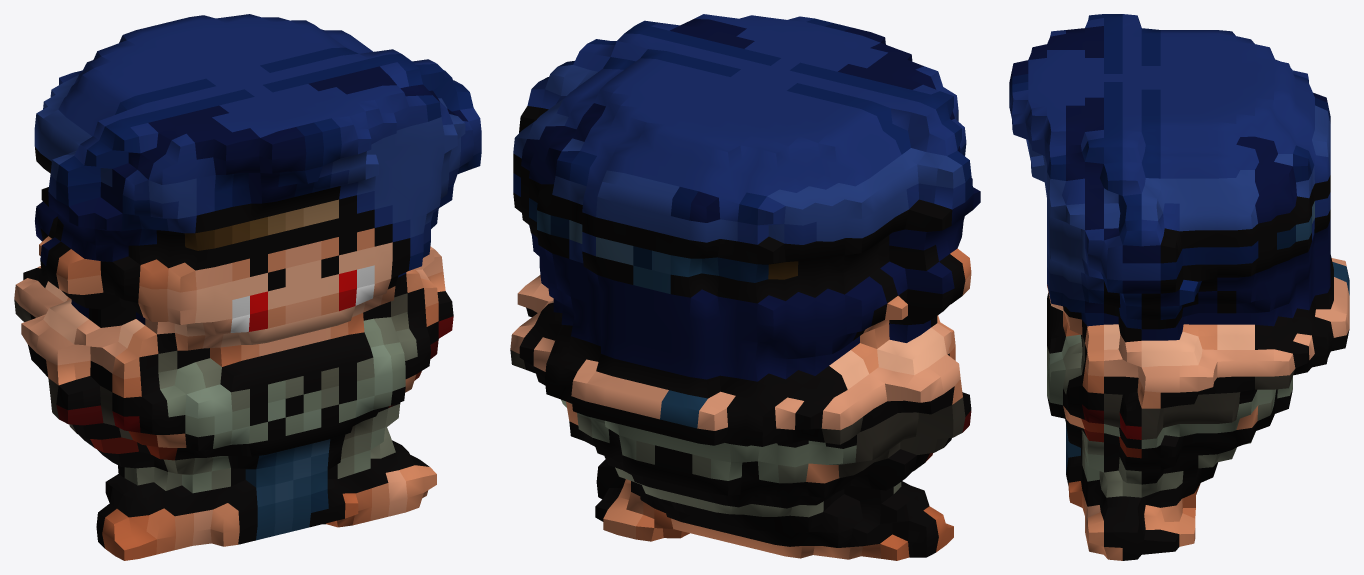
File: Icon_725_01.obj
The picture shows the model from 3 angles, left to right: view 1: azimuth 30°, elevation 25°; view 2: azimuth 150°, elevation 25°; view 3: azimuth 270°, elevation 25°; orthographic projection. The views are drawn at different scales.
Size of the model in its own units: 2.3 by 2.4 by 1.8.
Materials: 1 (1 with a texture image).
